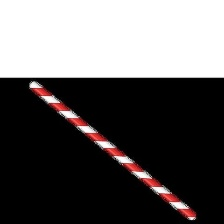drinking_straw: (23, 77, 199, 224)
